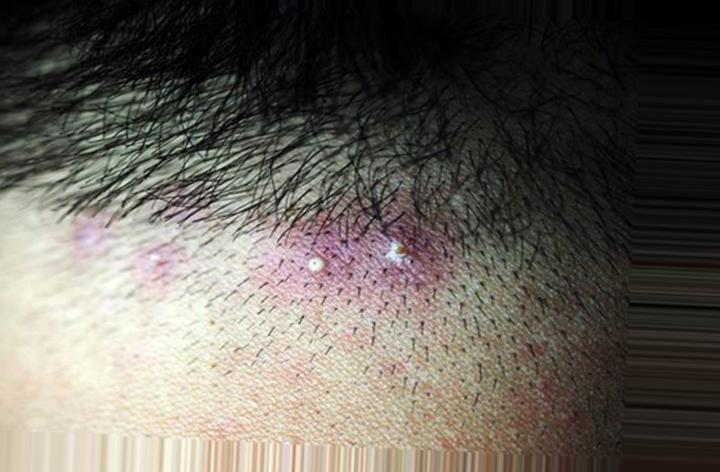Folliculitis: (293, 219, 441, 299)
